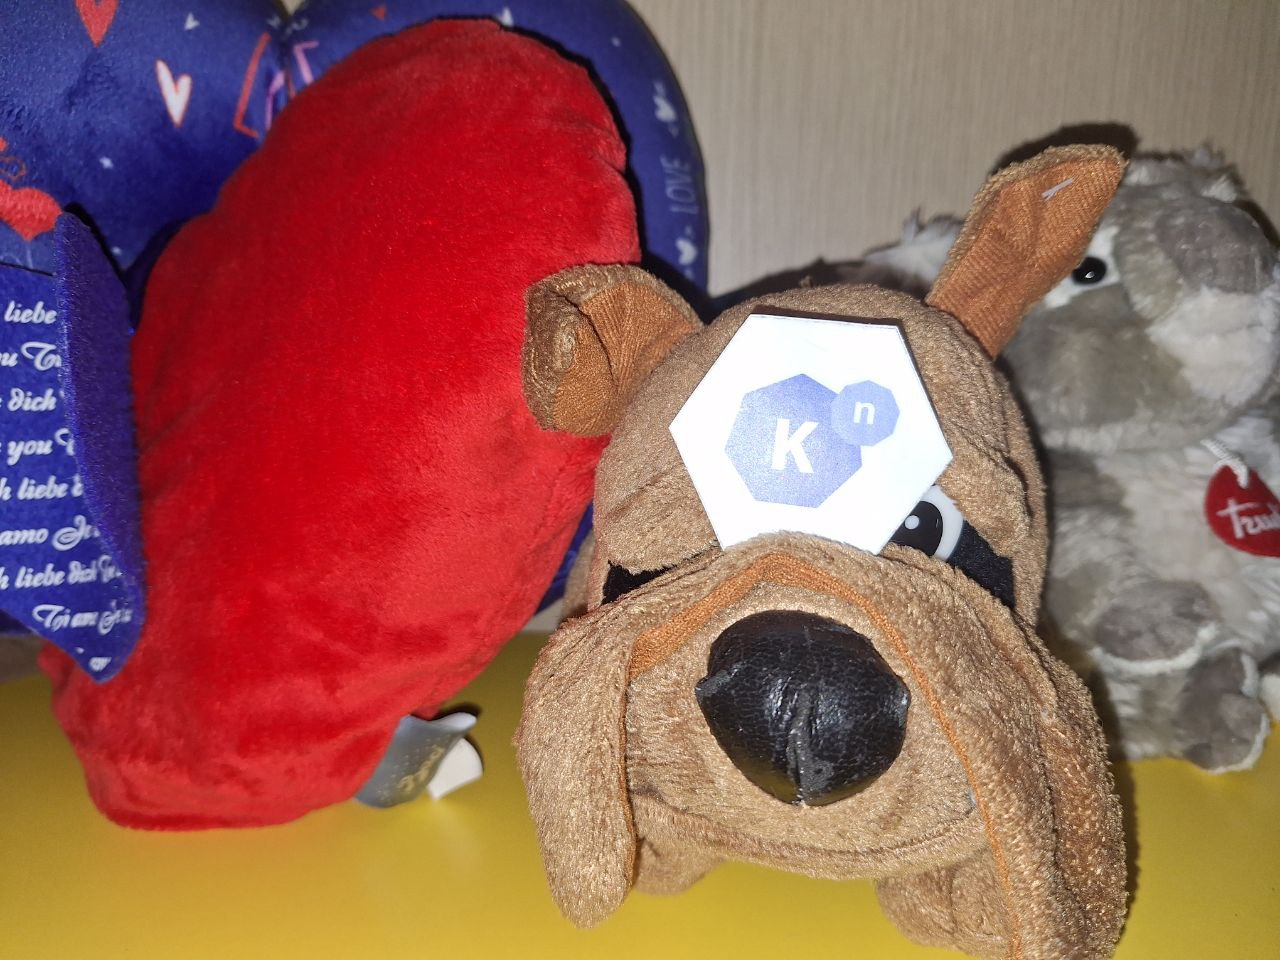knative: (723, 371, 903, 511)
